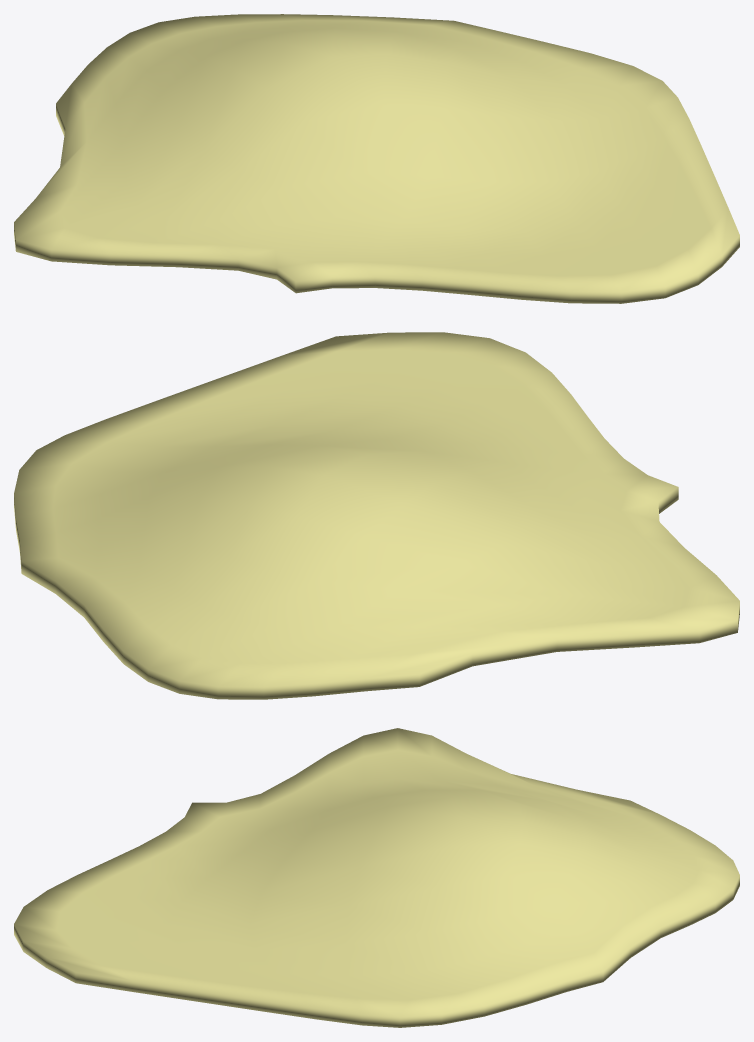
File: pan-cake-1.glb
3 renders of one model, top to bottom at view 1: azimuth 30°, elevation 25°; view 2: azimuth 150°, elevation 25°; view 3: azimuth 270°, elevation 25°, orthographic. The views are drawn at different scales.
Parts seen in each view (by area): view 1: Plane; view 2: Plane; view 3: Plane.
Boxes of the visible parts, bbox=[...] form: Plane: bbox=[14, 14, 739, 303]; Plane: bbox=[14, 332, 739, 699]; Plane: bbox=[14, 728, 739, 1027].
Size of the model in its own units: 36.3 by 4.52 by 38.52.
